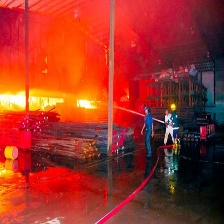fire: (1, 89, 95, 113)
